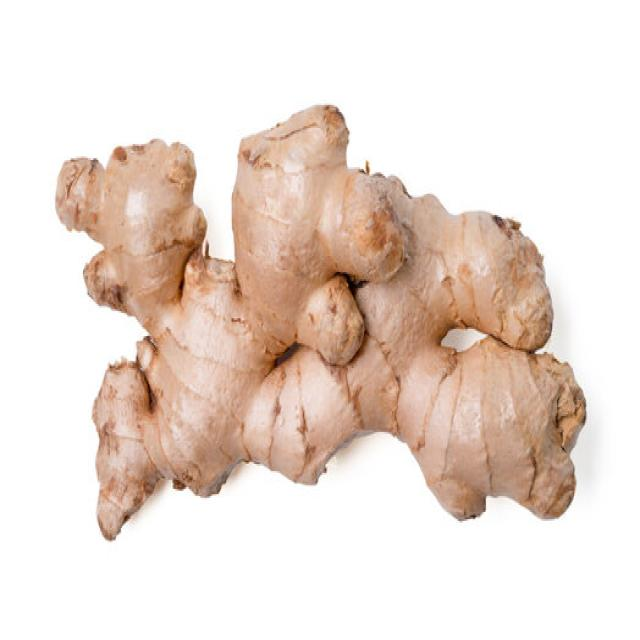Ginger: (54, 102, 586, 540)
